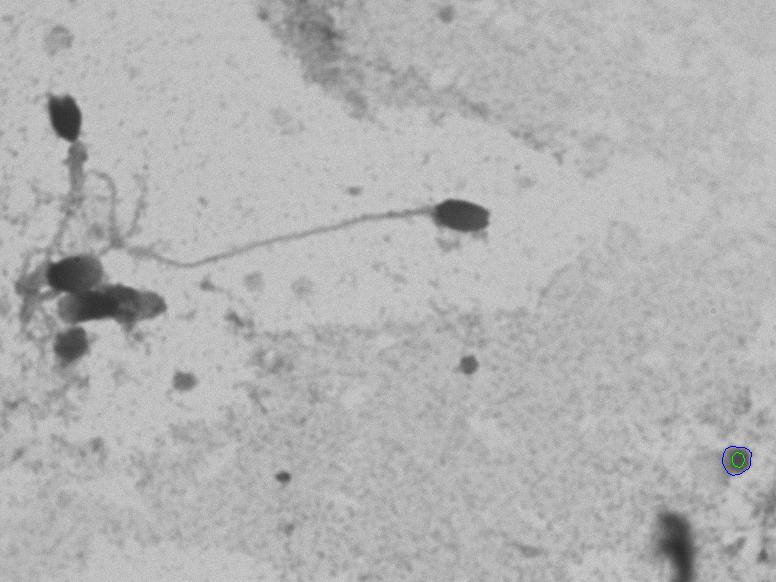Abnormal: (91, 144, 497, 276)
